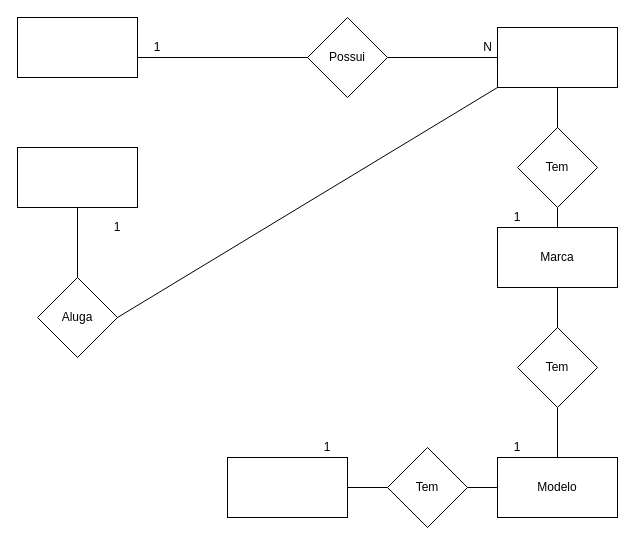
The diagram is 635 pixels wide and 545 high, and some of its shapes have lost their labels. The shapes that lost their labels are listed below. From the top down, each one's centre as x and y in pixels, then its label:
point (77, 47): Empresa
point (557, 57): Veículos
point (77, 177): Cliente
point (287, 487): Placa
